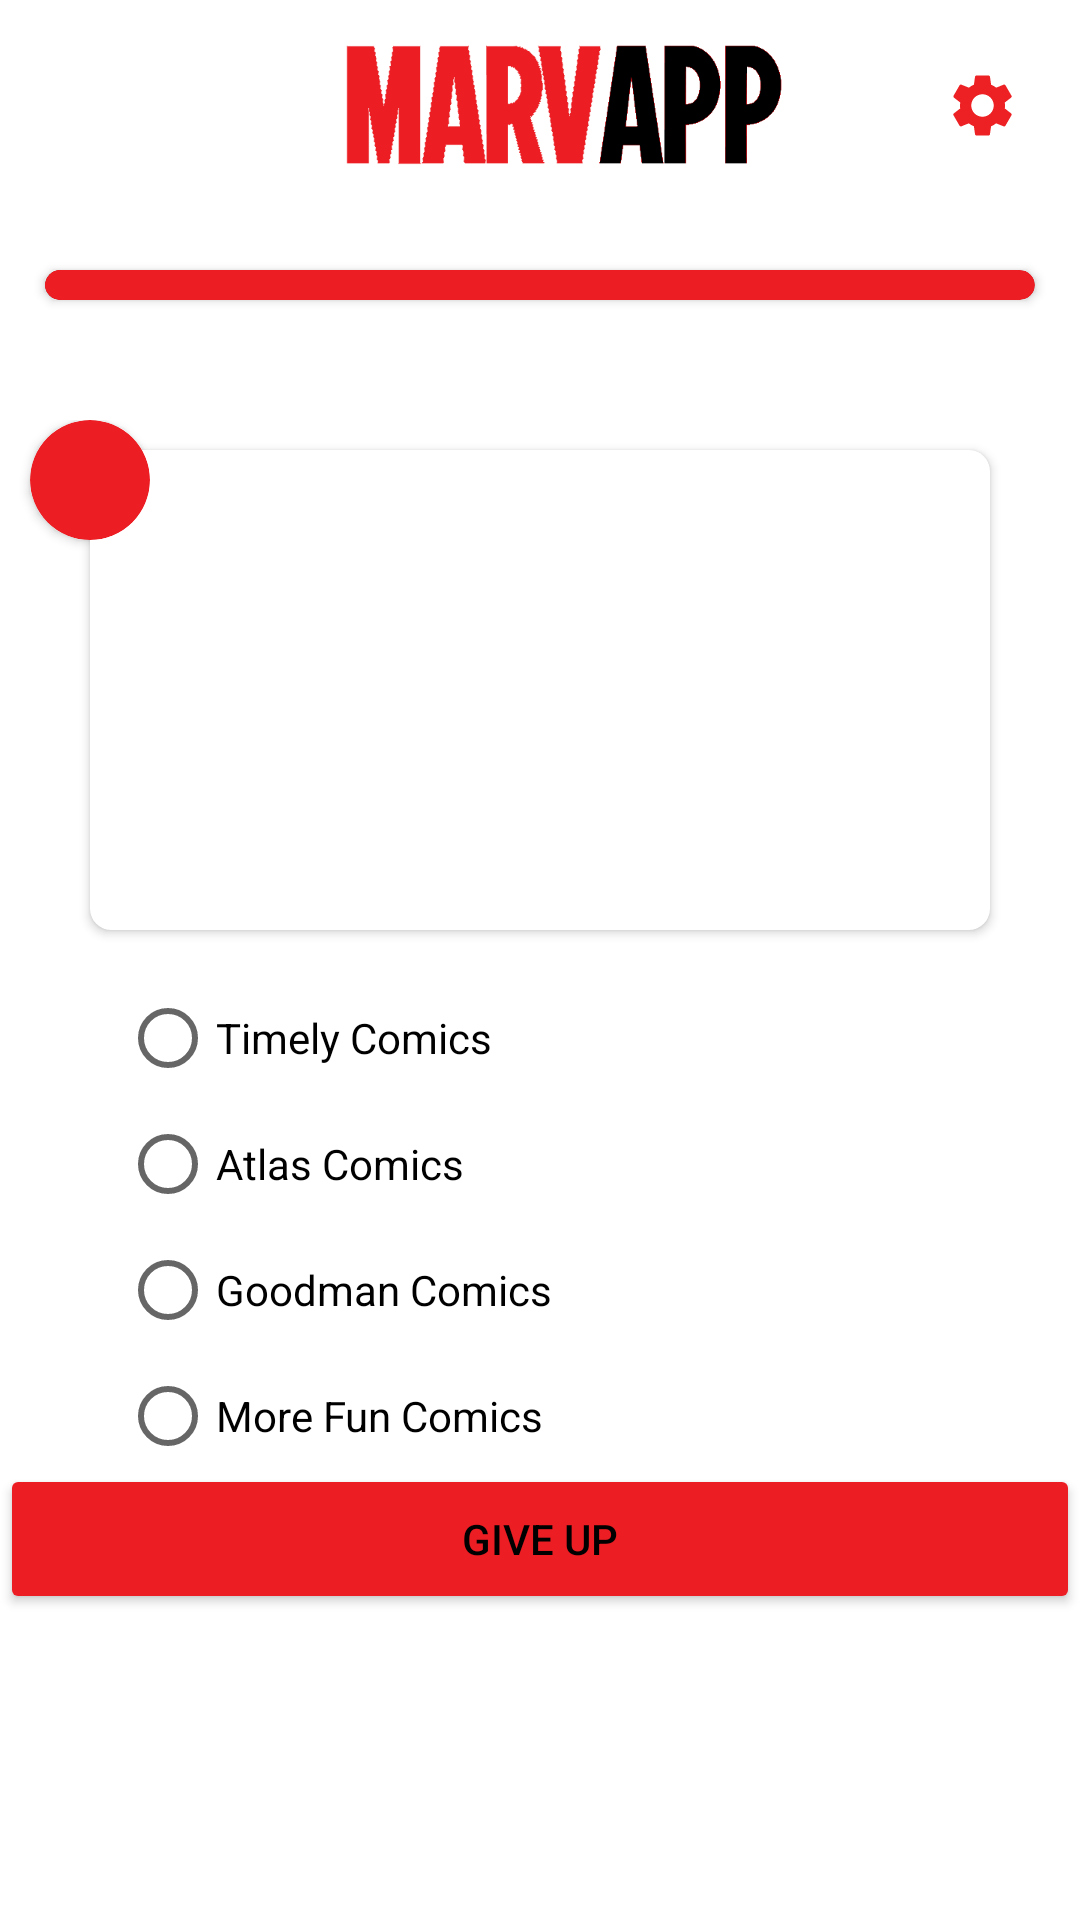

Point at icon controls on the screen. Image size 1080×1920, points as (x=x, y=y).
setting: (x=982, y=105)
